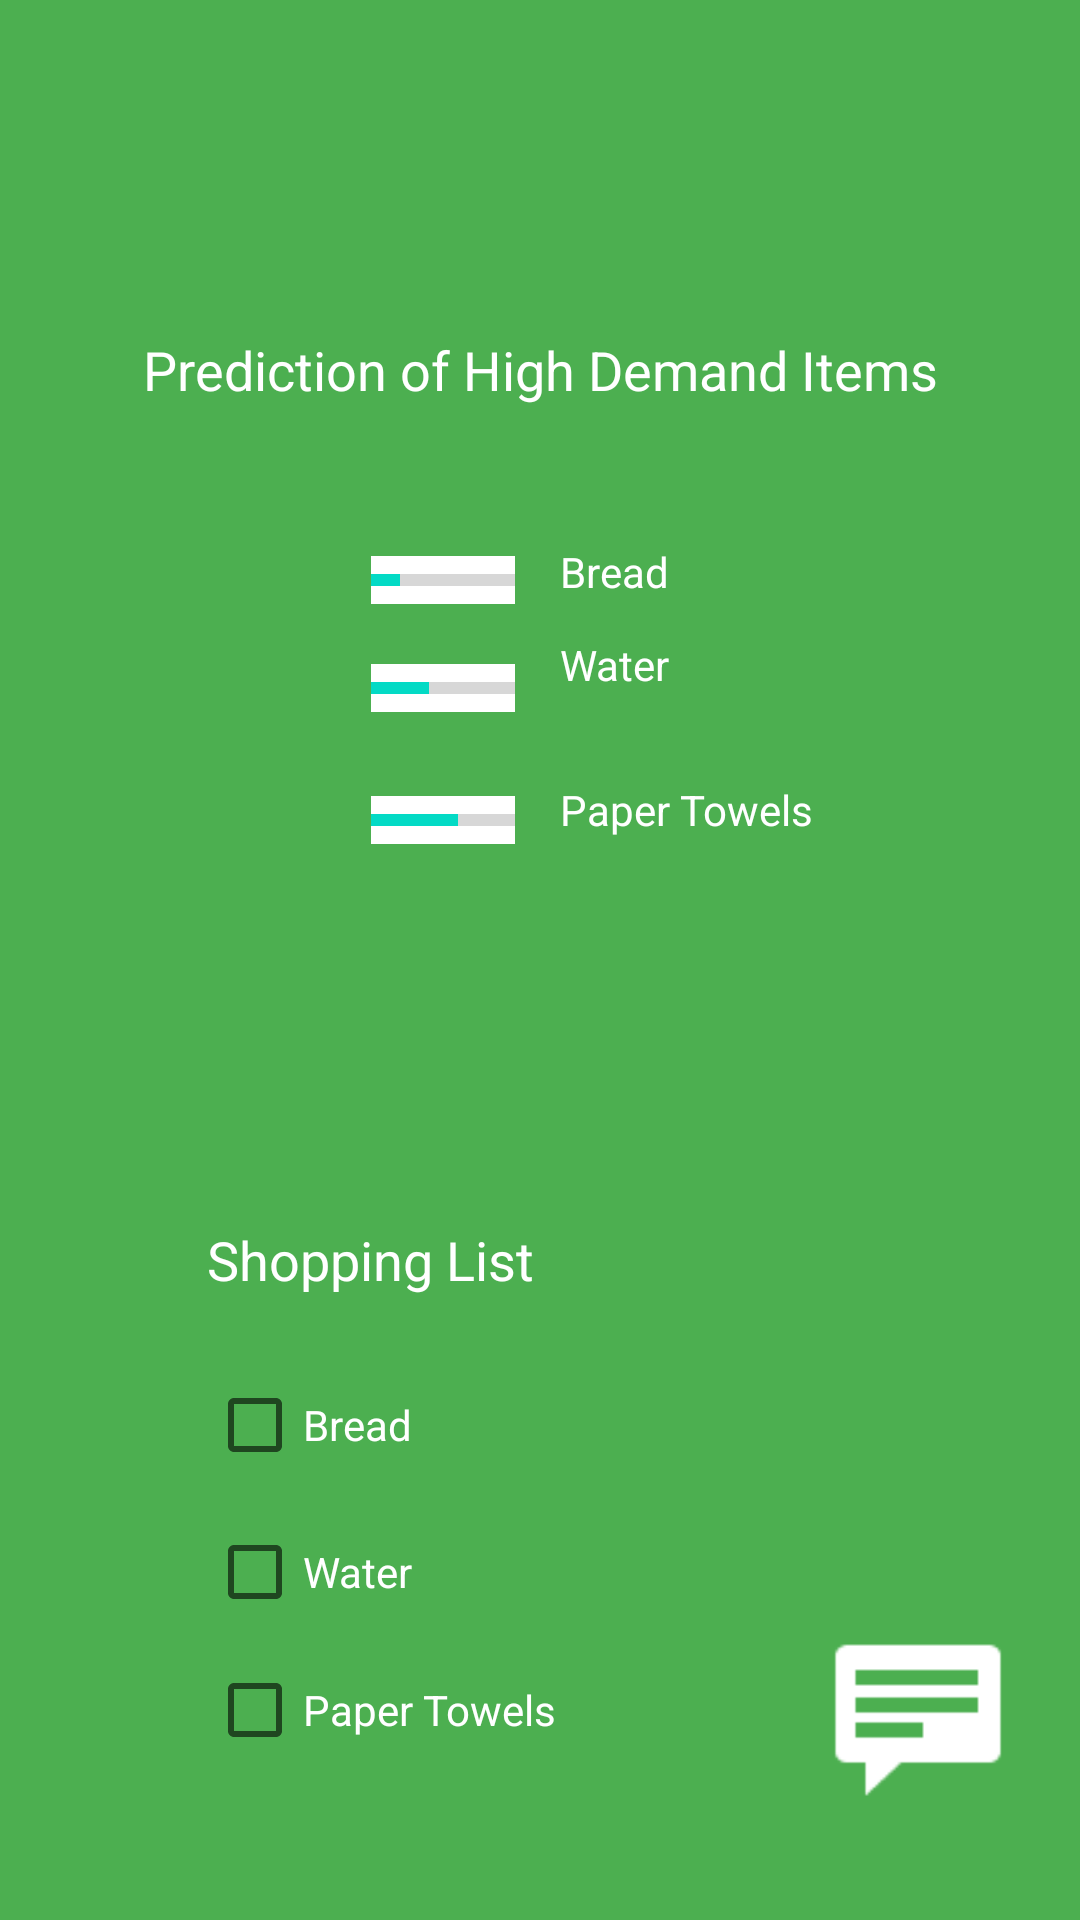

Screen size 1080 x 1920. Icon name, then its center in pixels as (x=x, y=y):
chatbot: (x=918, y=1720)
